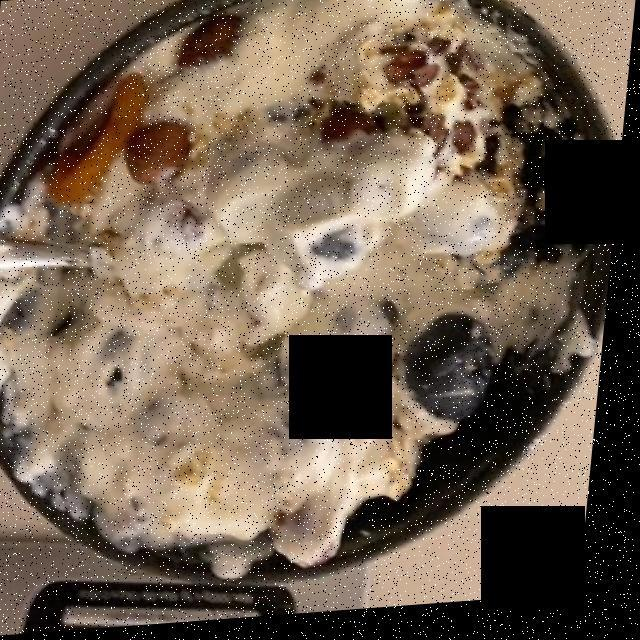apricot-dried: (37, 77, 152, 212)
blueberries: (409, 301, 501, 420)
curds: (68, 12, 360, 327)
hazelnut: (146, 14, 248, 189)
oats: (411, 9, 549, 200)
yogurt: (11, 0, 478, 531)
